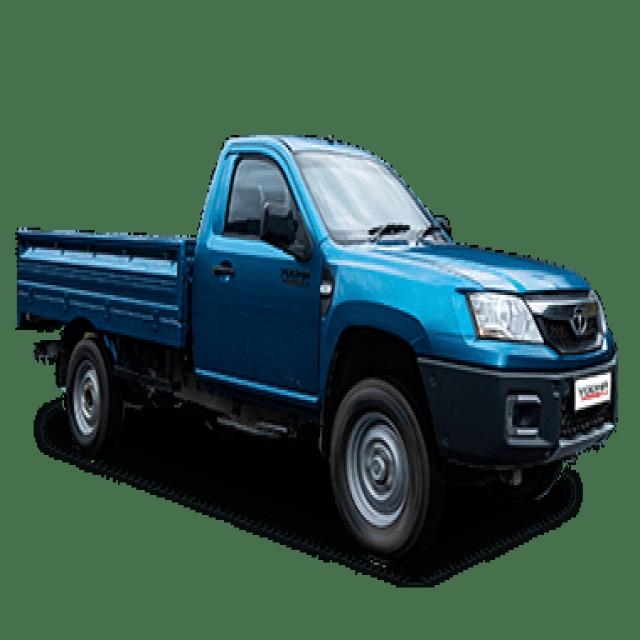light_vehicle: (19, 128, 619, 558)
